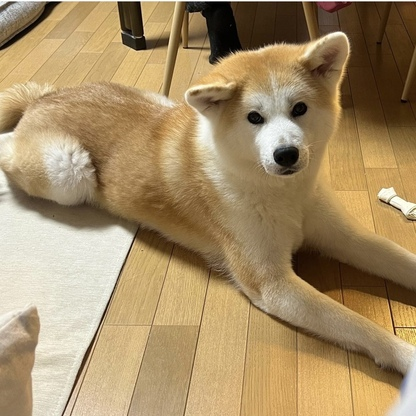akita: (1, 27, 415, 382)
